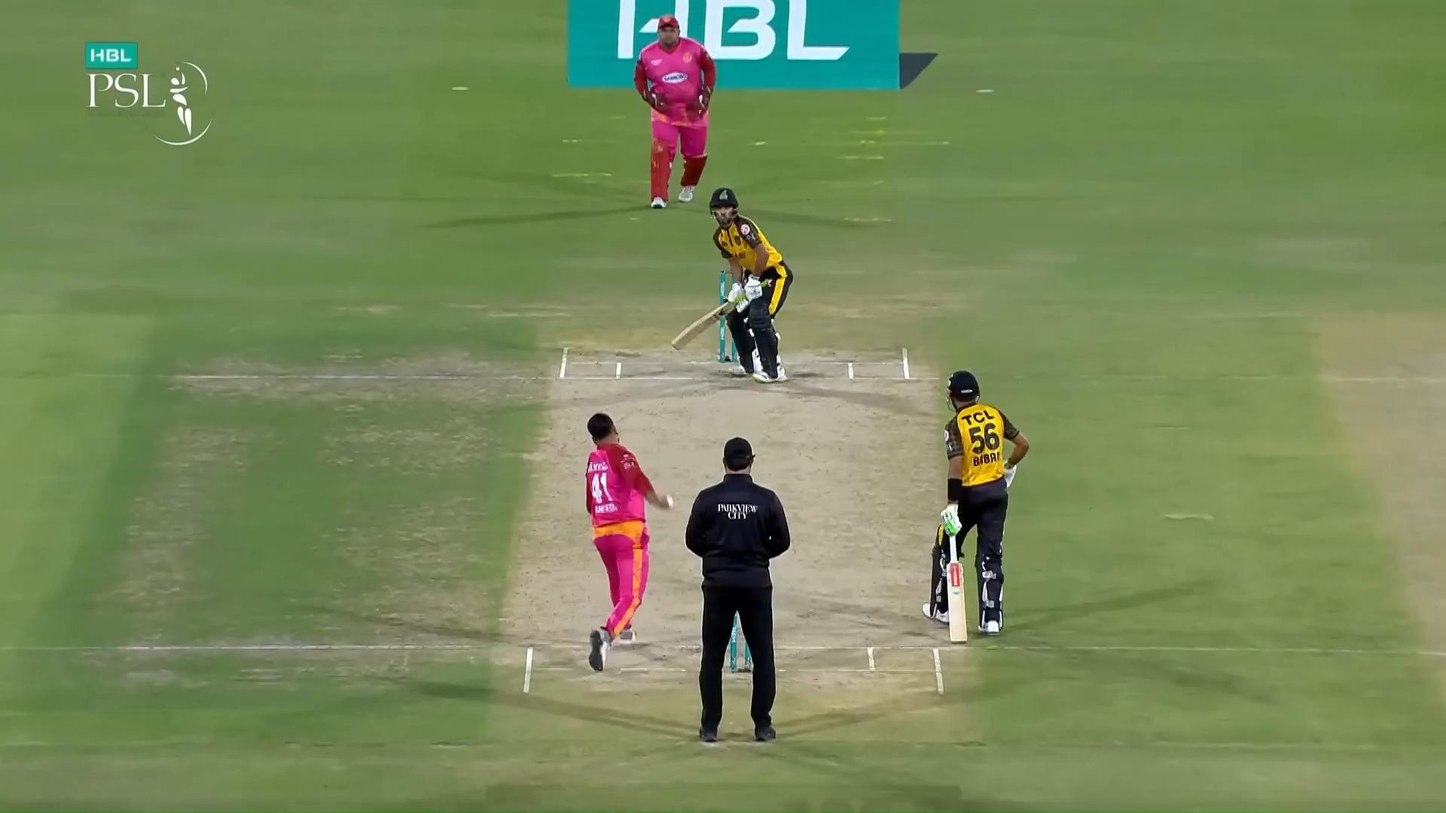batsman: (672, 187, 794, 382)
